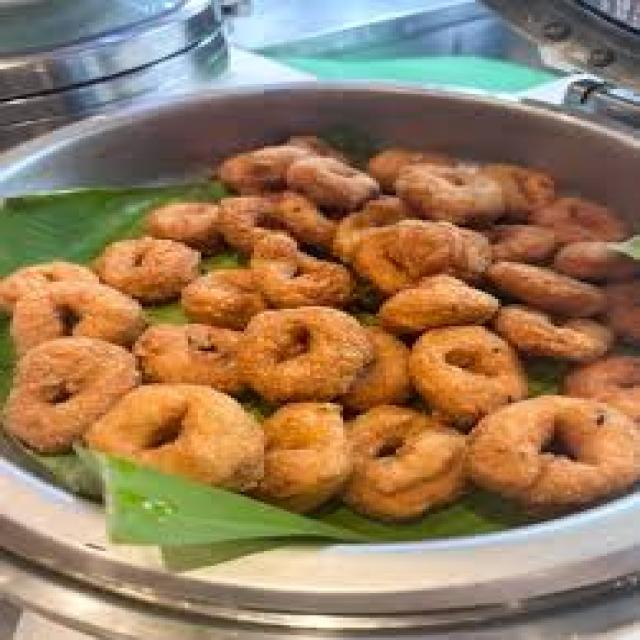MEDU VADA: (1, 127, 637, 516)
